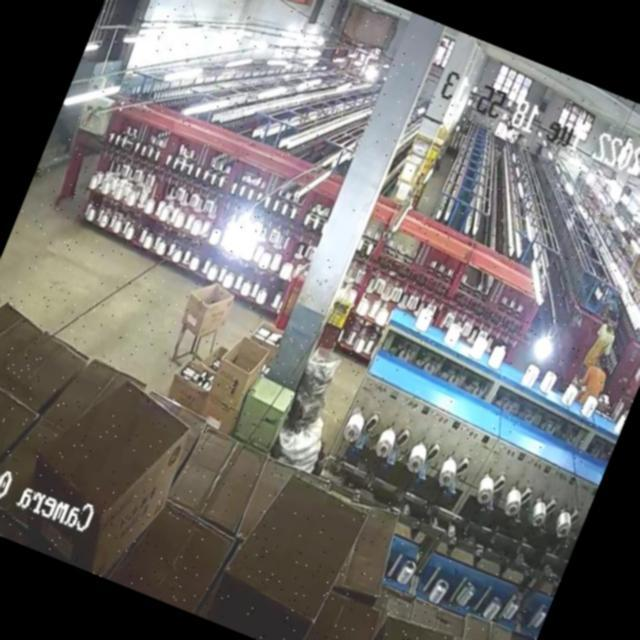person: (573, 302, 626, 379), (572, 354, 614, 405)
